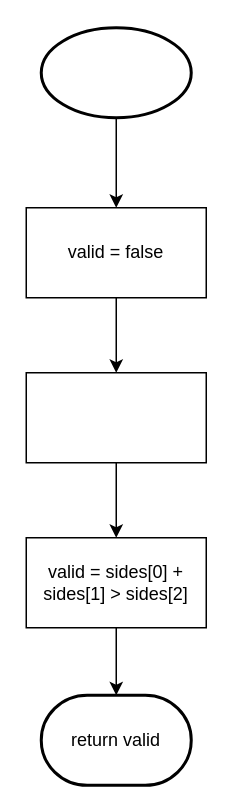
The diagram is 233 pixels wide and 812 high, and some of its shapes have lost their labels. The box of each missing label's shape, as (x1, y1, x2, y2) in pixels:
sides = [this.Side1, this.Side2, this.Side3]: (25, 371, 206, 463)
Start: (39, 26, 192, 118)
